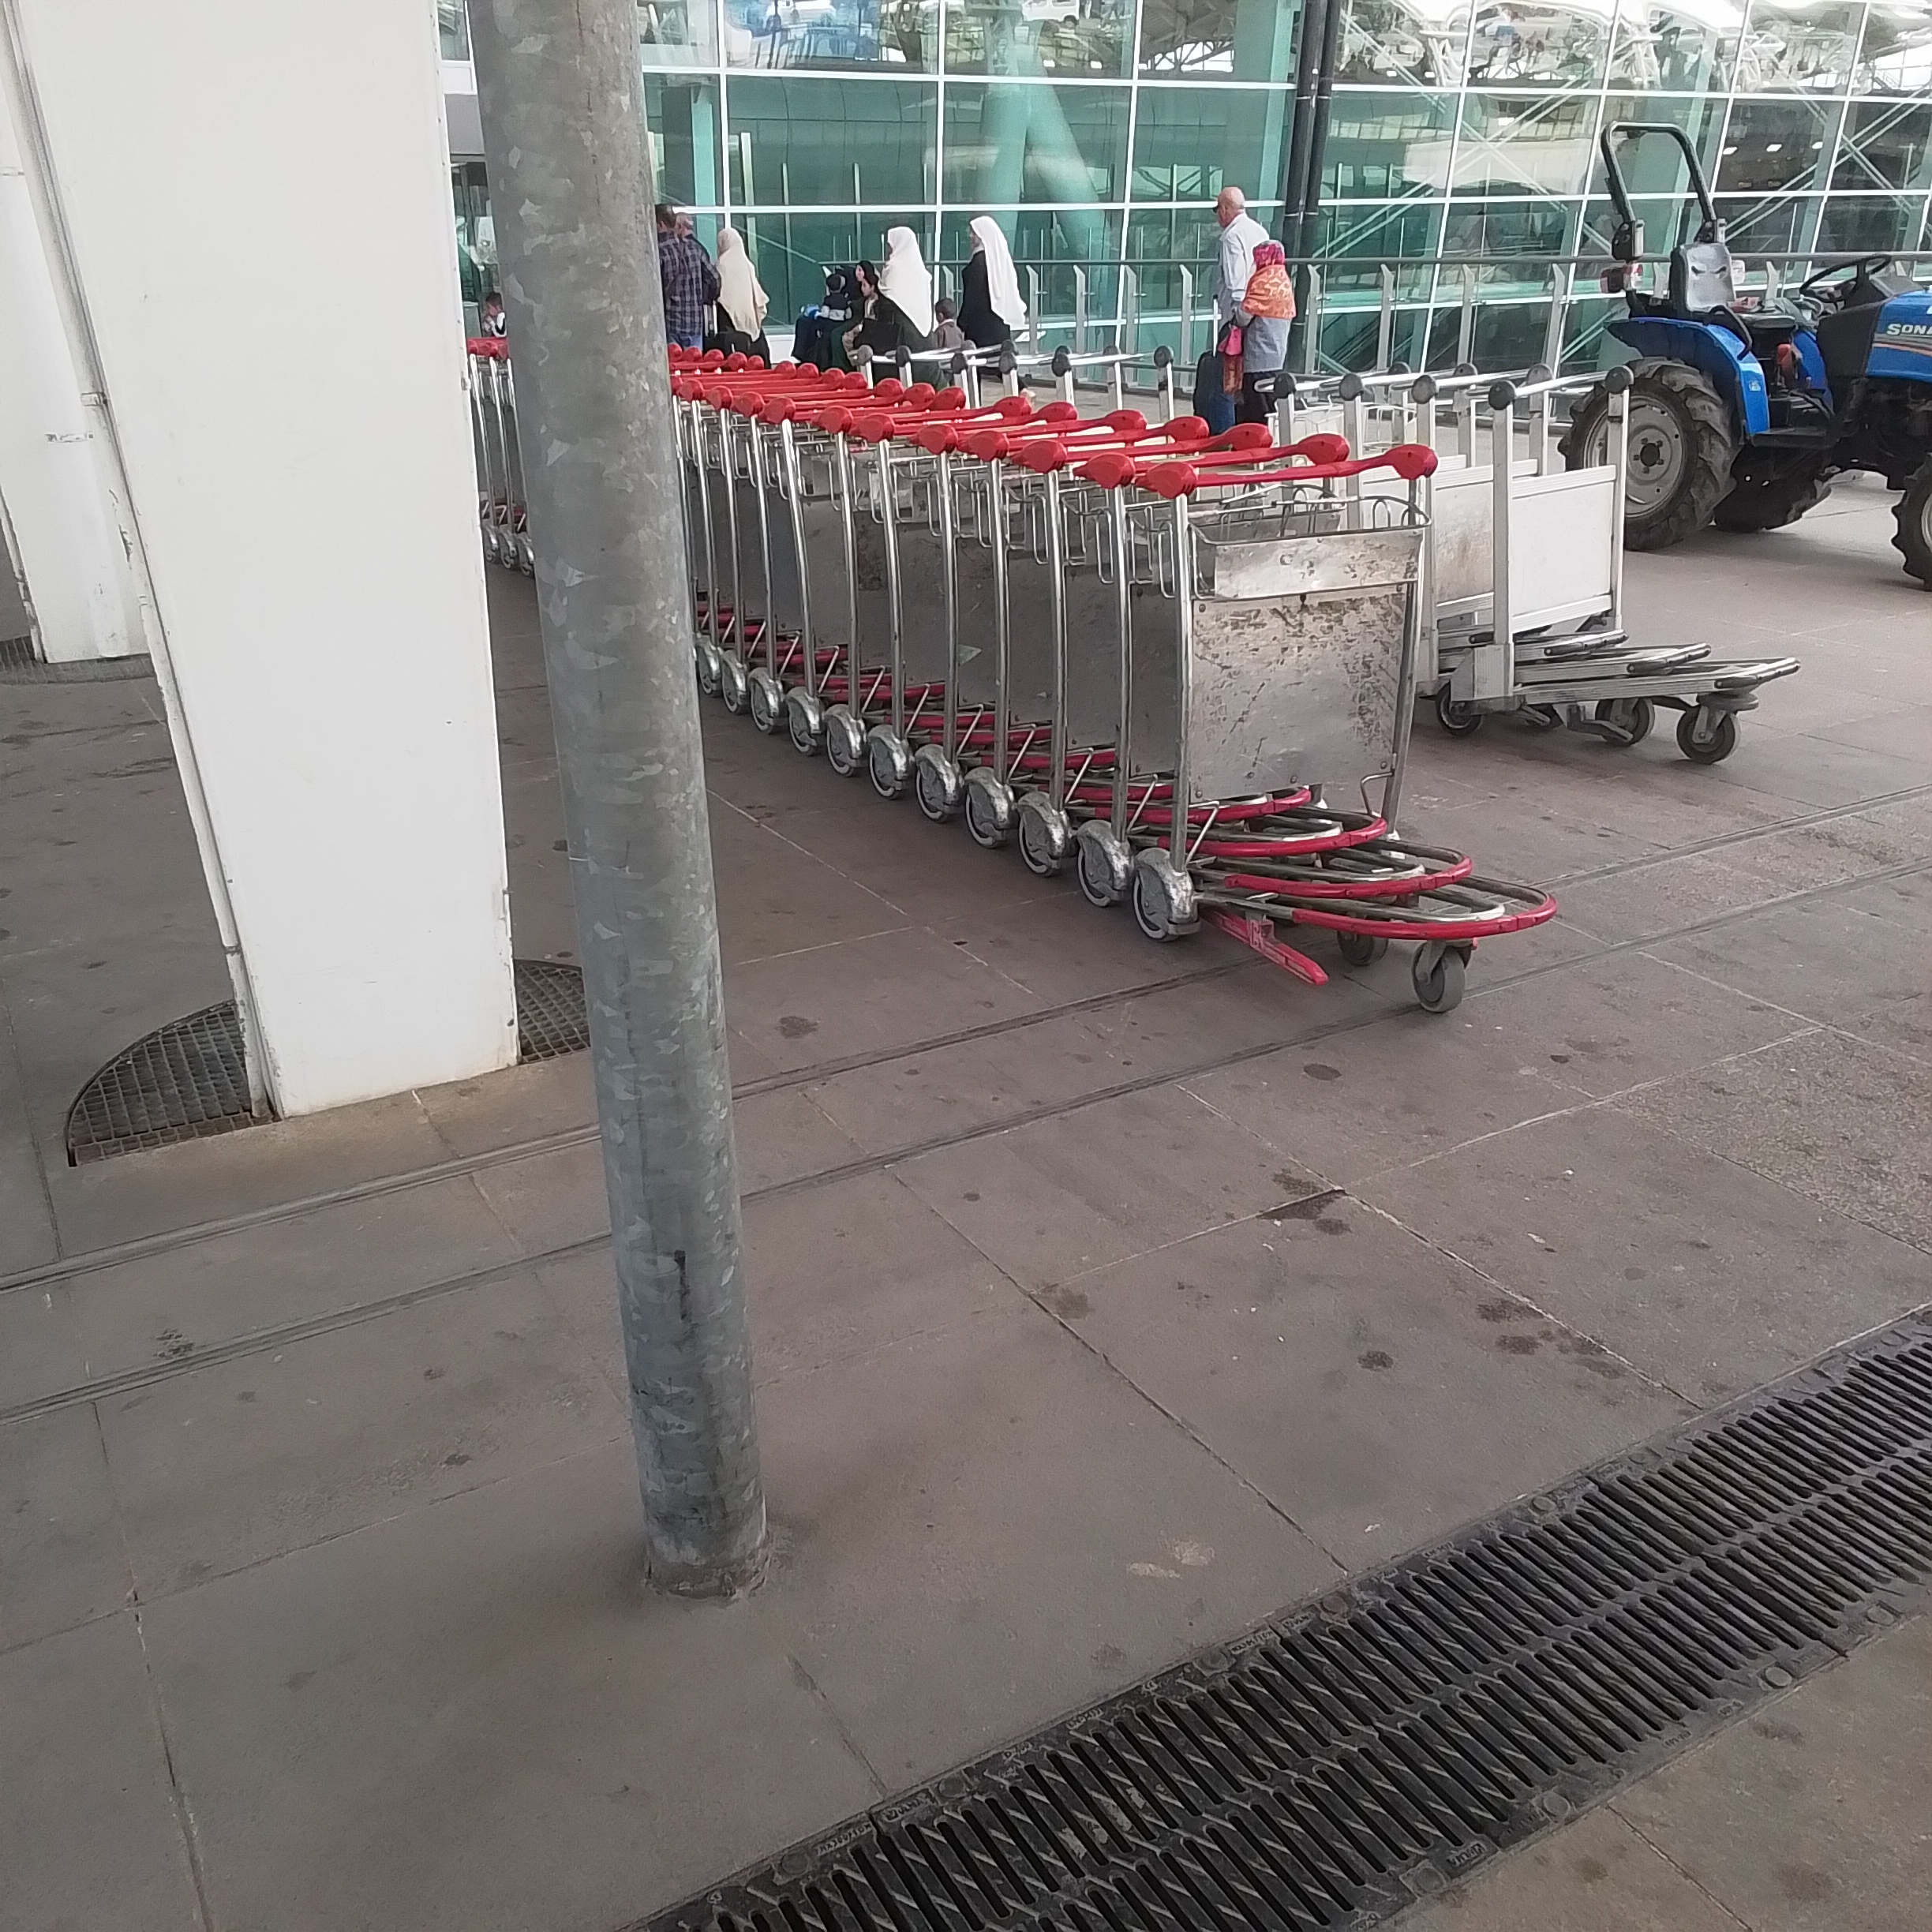airport-trolley: (1136, 462, 1569, 994), (1076, 410, 1369, 908), (1483, 372, 1798, 764), (1405, 359, 1704, 709), (943, 423, 1051, 878), (1007, 419, 1106, 911), (895, 410, 994, 842), (782, 389, 890, 761), (709, 359, 803, 743), (847, 384, 929, 803)
